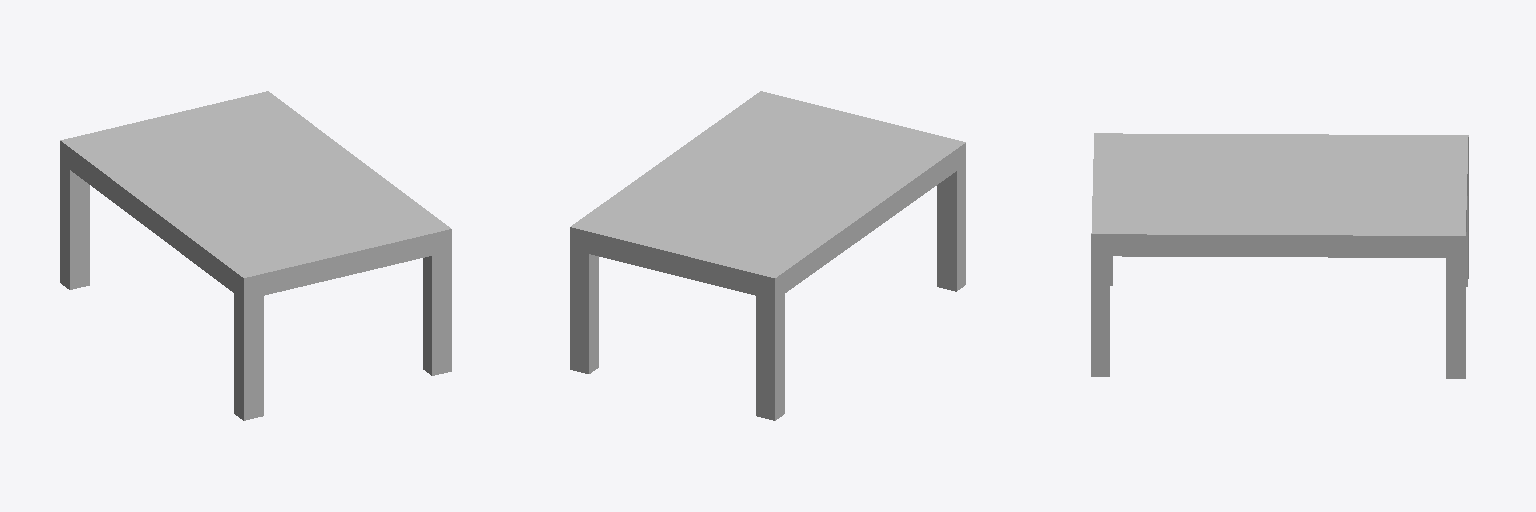
File: table.obj
3 renders of one model, left to right at view 1: azimuth 30°, elevation 25°; view 2: azimuth 150°, elevation 25°; view 3: azimuth 270°, elevation 25°, orthographic.
Parts seen in each view (by area): view 1: Table.001_Cube.033; view 2: Table.001_Cube.033; view 3: Table.001_Cube.033.
Boxes of the visible parts, x1=… form: Table.001_Cube.033: x1=60, y1=91, x2=451, y2=420; Table.001_Cube.033: x1=570, y1=91, x2=965, y2=420; Table.001_Cube.033: x1=1091, y1=133, x2=1468, y2=378.
Size of the model in its own units: 4.02 by 2.6 by 6.24.